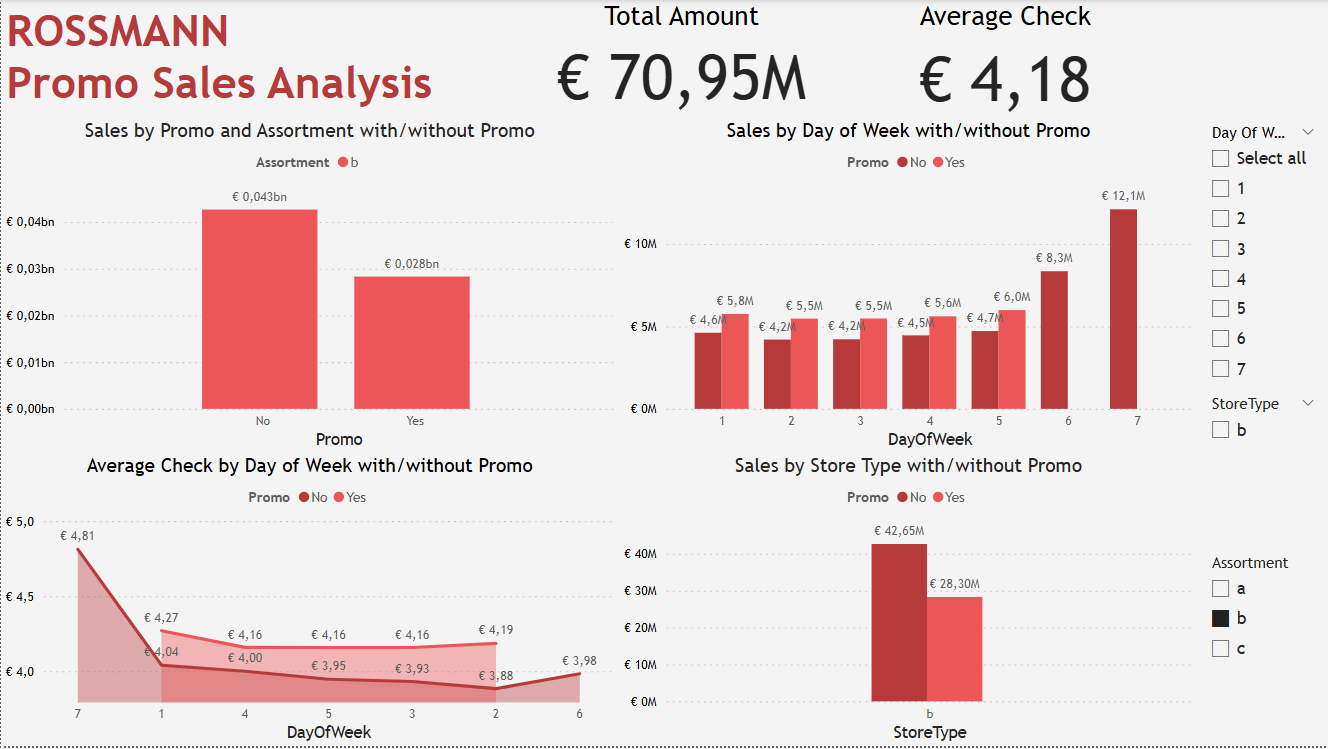

What the dashboard file says about the page in this screenshot:
{"tool":"powerbi","page":{"name":"Promo Sales","canvas":[1280,720],"ordinal":0},"visuals":[{"type":"clusteredColumnChart","title":"Sales by Promo and Assortment with/without Promo","fields":{"Category":["train.Promo"],"Y":["Sum(train.Sales)"],"Series":["store.Assortment"]},"box":[0,114.6,596,323.3],"z":0},{"type":"clusteredColumnChart","title":"Sales by Day of Week with/without Promo","fields":{"Category":["train.DayOfWeek"],"Y":["Sum(train.Sales)"],"Series":["train.Promo"]},"box":[596,114.6,559.8,323.3],"z":1000},{"type":"areaChart","title":"Average Check by Day of Week with/without Promo","fields":{"Category":["train.DayOfWeek"],"Y":["train.AvgCheck"],"Series":["train.Promo"]},"box":[0,437.9,596,282.3],"z":2000},{"type":"clusteredColumnChart","title":"Sales by Store Type with/without Promo","fields":{"Category":["store.StoreType"],"Y":["Sum(train.Sales)"],"Series":["train.Promo"]},"box":[596,437.9,559.8,282.3],"z":3000},{"type":"slicer","fields":{"Values":["train.DayOfWeek"]},"box":[1155.8,114.6,124.3,261.8],"z":4000},{"type":"slicer","fields":{"Values":["store.StoreType"]},"box":[1155.8,376.4,124.3,179.8],"z":5000},{"type":"slicer","fields":{"Values":["store.Assortment"]},"box":[1155.8,529.6,124.3,154.4],"z":6000},{"type":"textbox","box":[0,0,520,114.6],"z":7000},{"type":"card","title":"Total Amount","fields":{"Values":["Sum(train.Sales)"]},"box":[504.3,0,305.2,114.6],"z":8000},{"type":"card","title":"Average Check","fields":{"Values":["train.AvgCheck"]},"box":[856.6,0,225.6,114.6],"z":9000}]}

Visuals, with their boxes in screenshot pixels (x1, y1, x2, y2), scaled from the page's 1280x720 canvas onto the 1328x749 screenshot:
"Sales by Promo and Assortment with/without Promo" clusteredColumnChart: (x1=0, y1=119, x2=618, y2=456)
"Sales by Day of Week with/without Promo" clusteredColumnChart: (x1=618, y1=119, x2=1199, y2=456)
"Average Check by Day of Week with/without Promo" areaChart: (x1=0, y1=456, x2=618, y2=748)
"Sales by Store Type with/without Promo" clusteredColumnChart: (x1=618, y1=456, x2=1199, y2=748)
slicer - train.DayOfWeek: (x1=1199, y1=119, x2=1327, y2=392)
slicer - store.StoreType: (x1=1199, y1=392, x2=1327, y2=579)
slicer - store.Assortment: (x1=1199, y1=551, x2=1327, y2=712)
textbox: (x1=0, y1=0, x2=540, y2=119)
"Total Amount" card: (x1=523, y1=0, x2=840, y2=119)
"Average Check" card: (x1=889, y1=0, x2=1123, y2=119)
